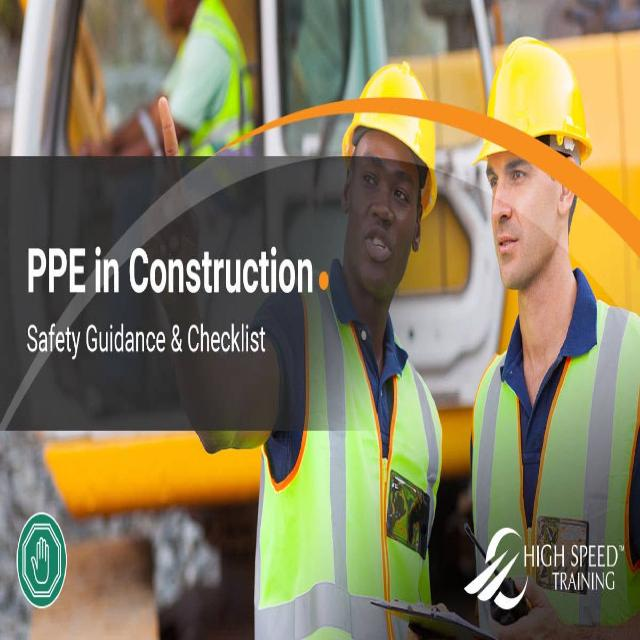helmet: (472, 32, 594, 178), (340, 57, 443, 228)
vest: (251, 259, 447, 640), (468, 290, 640, 640)
